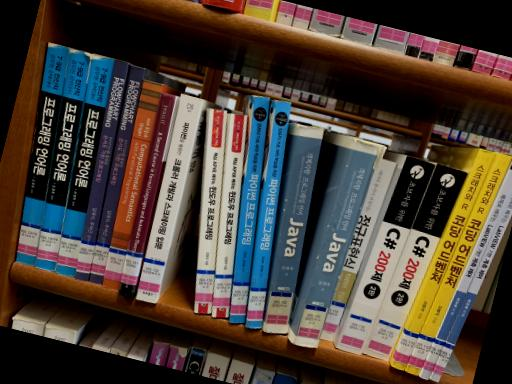book-spine: (405, 153, 511, 376), (391, 148, 495, 371), (362, 164, 467, 362), (418, 163, 512, 380), (335, 156, 434, 355), (293, 138, 383, 350), (429, 187, 512, 382), (319, 158, 396, 342), (135, 95, 202, 304), (34, 48, 93, 272), (55, 55, 114, 277), (102, 80, 162, 290), (264, 124, 323, 334), (88, 65, 144, 284), (74, 60, 129, 281), (15, 42, 69, 266), (118, 93, 176, 297), (246, 101, 291, 329), (228, 96, 269, 323), (211, 114, 247, 318), (193, 109, 226, 314)
